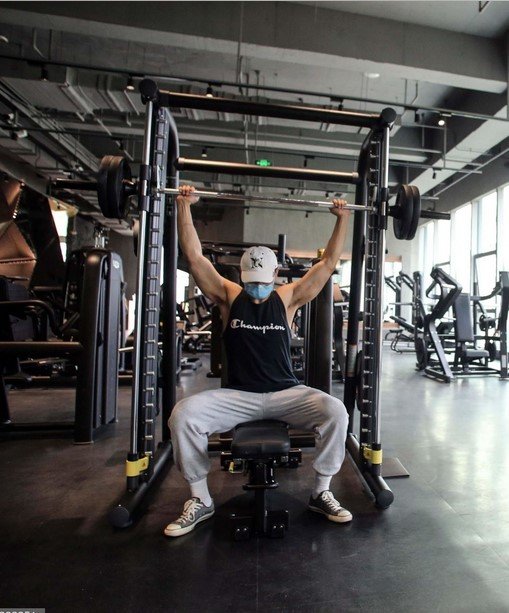face_with_mask: (236, 242, 281, 305)
